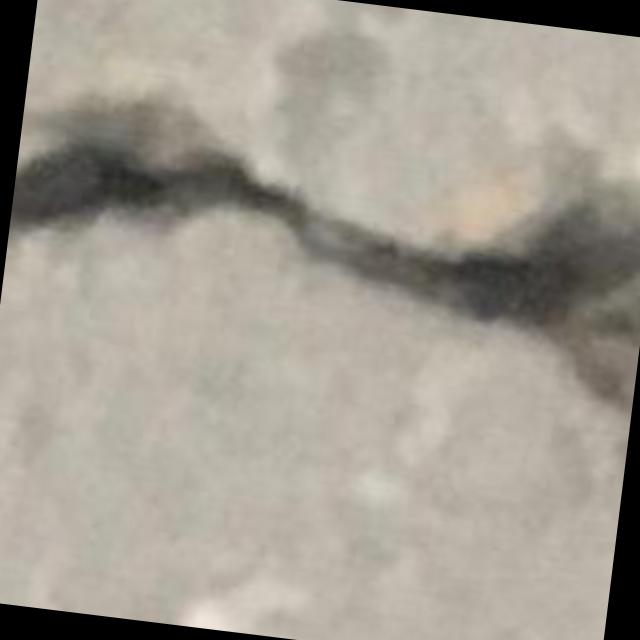crack: (9, 105, 639, 404)
